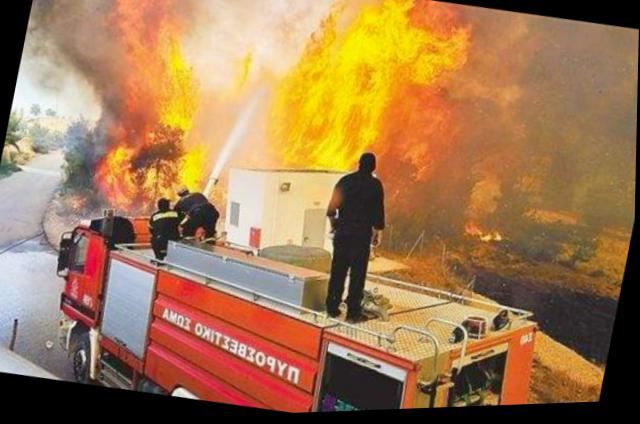fire: (241, 0, 479, 231), (83, 0, 237, 226)
